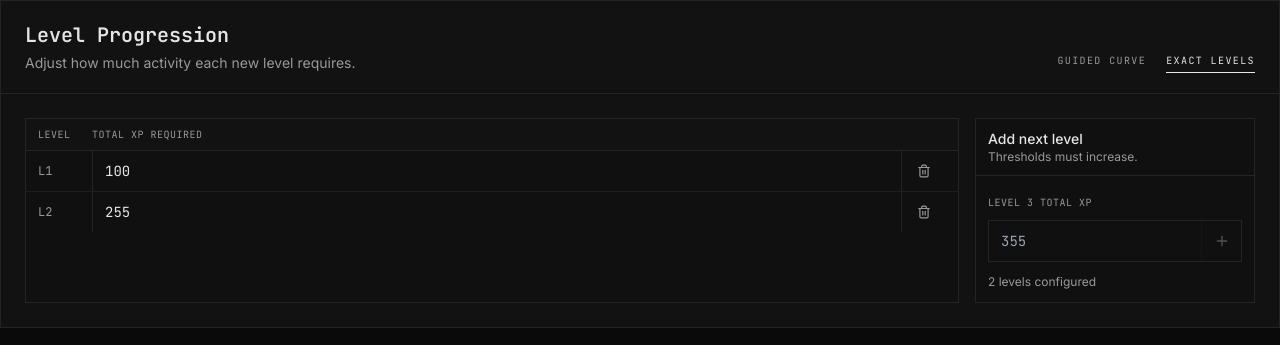
XP settings › adds and removes explicit curve thresholds without comma-separated editing
Later steps or results of the test are not shown.
In the number field labelled "Level 3 total XP": x=1095, y=241 left=989, top=221, right=1201, bottom=261, type "475"
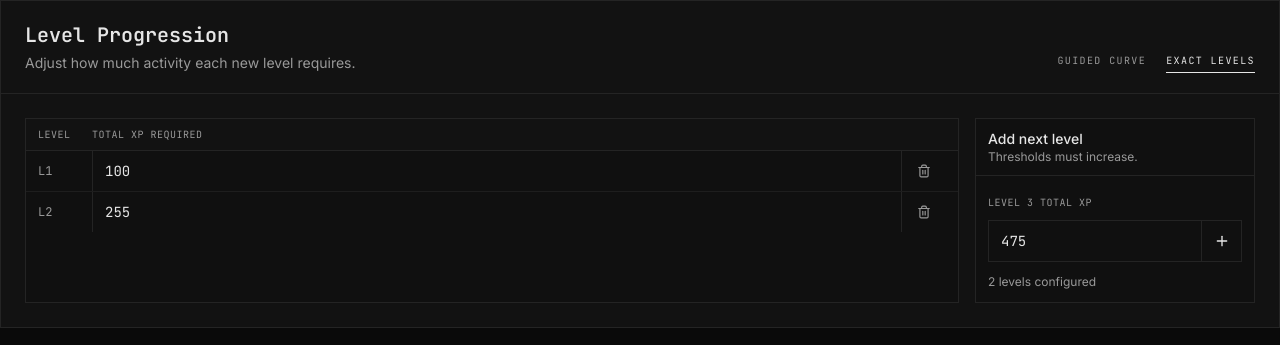
Click the button named "Add level 3": x=1221, y=241 left=1201, top=221, right=1241, bottom=261
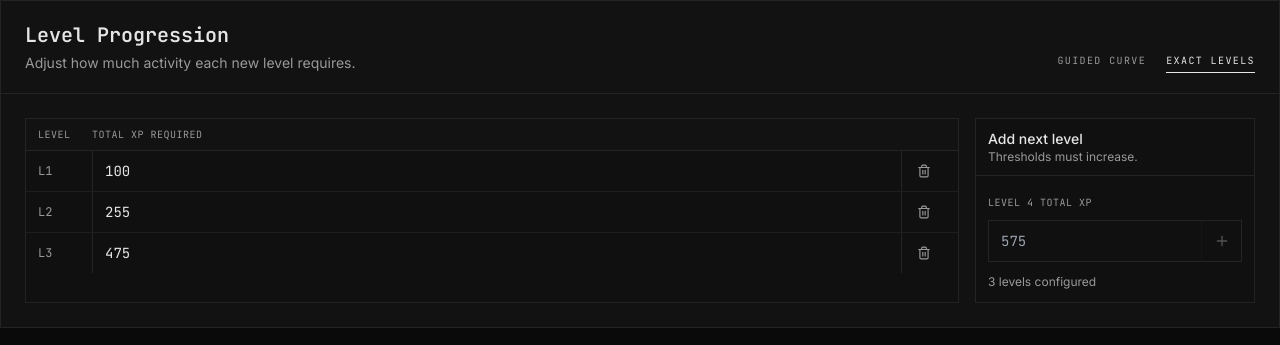
Check: the number field named "Level 3 XP threshold" holds "475", box left=92, top=233, right=902, bottom=273
